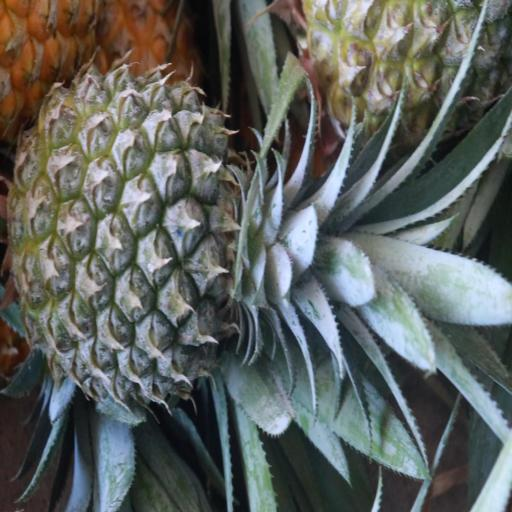------------------------------: (310, 0, 512, 156)
